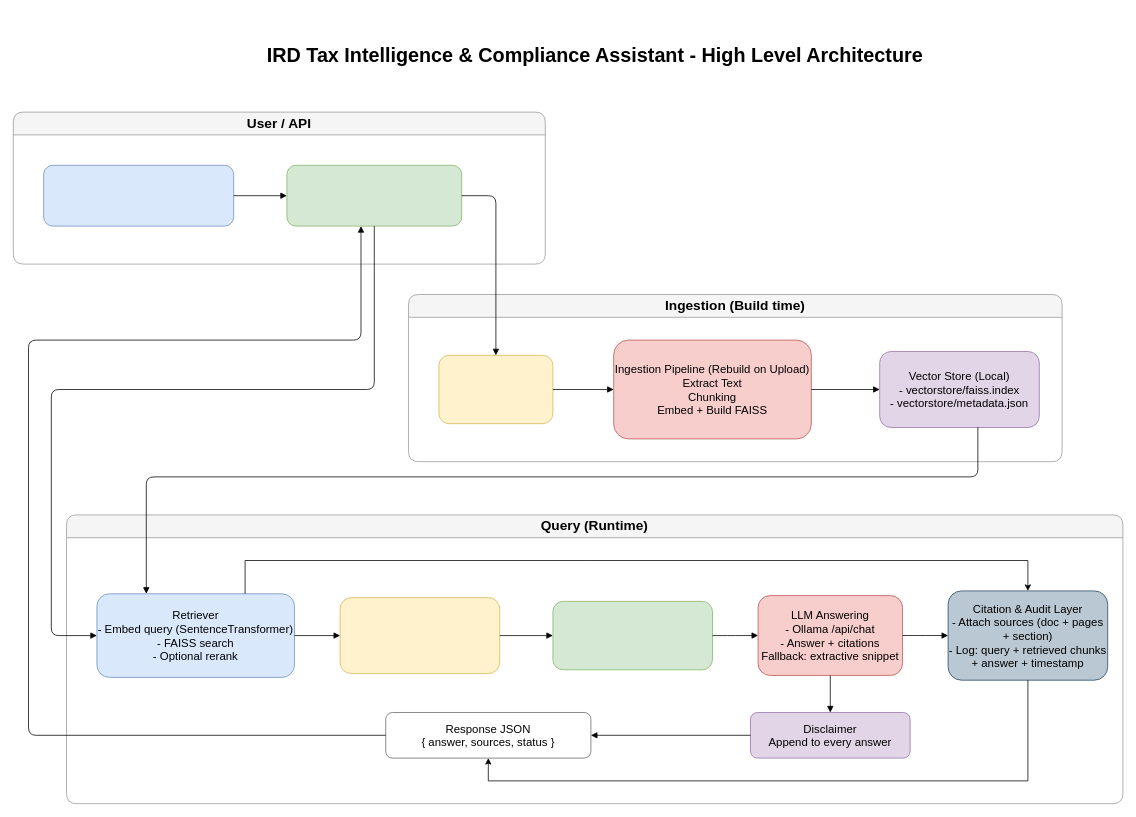
Image size: 1136x817. Some labels were removed from this diagram. Each missing label, with the centre of its shape:
Client / User - Swagger UI (/docs) - CLI scripts - Future UI: (x=138, y=195)
FastAPI API Layer - POST /upload - POST /query: (x=374, y=195)
Guardrails - Missing → Not available - Ambiguous → Ask clarification: (x=419, y=635)
PDF Storage data/pdfs/: (x=495, y=389)
Prompt Builder - System rules - User prompt + CONTEXT chunks: (x=632, y=635)
